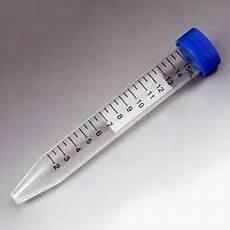Test tube: (18, 13, 219, 214)
